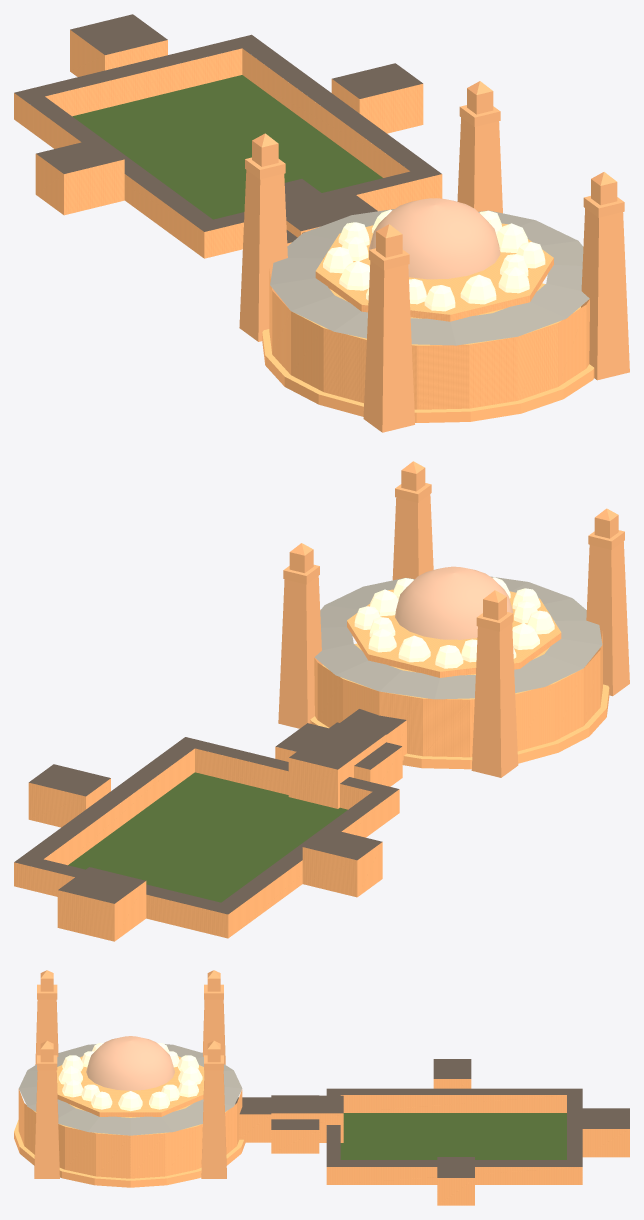
Rendered from grand_jamia_mosque_bahria_far.glb.
The picture shows the model from 3 angles, top to bottom: view 1: azimuth 30°, elevation 25°; view 2: azimuth 150°, elevation 25°; view 3: azimuth 270°, elevation 25°; orthographic projection. The views are drawn at different scales.
Visible parts, largest first — view 1: m_brick, m_minaret_plain, m_grass, m_wing_roof, m_roof_ring, m_dome_main, m_dome_small, m_brick_plain; view 2: m_brick, m_minaret_plain, m_grass, m_wing_roof, m_roof_ring, m_dome_main, m_dome_small, m_brick_plain; view 3: m_brick, m_grass, m_wing_roof, m_minaret_plain, m_roof_ring, m_dome_main, m_dome_small, m_brick_plain.
Part boxes in pixels (x1,y1,x2,y2): m_brick: [14, 30, 589, 409]; m_minaret_plain: [239, 81, 629, 432]; m_grass: [72, 75, 382, 219]; m_wing_roof: [14, 14, 441, 243]; m_roof_ring: [270, 209, 589, 345]; m_dome_main: [369, 198, 500, 279]; m_dome_small: [323, 209, 545, 311]; m_brick_plain: [262, 283, 594, 422]; m_brick: [14, 589, 602, 941]; m_minaret_plain: [278, 461, 629, 777]; m_grass: [68, 772, 347, 902]; m_wing_roof: [14, 709, 406, 914]; m_roof_ring: [314, 576, 602, 699]; m_dome_main: [395, 566, 513, 639]; m_dome_small: [354, 577, 554, 668]; m_brick_plain: [310, 643, 609, 769]; m_brick: [18, 1056, 629, 1205]; m_grass: [340, 1113, 566, 1159]; m_wing_roof: [235, 1059, 629, 1177]; m_minaret_plain: [34, 970, 226, 1178]; m_roof_ring: [19, 1044, 242, 1135]; m_dome_main: [86, 1036, 174, 1090]; m_dome_small: [58, 1043, 202, 1111]; m_brick_plain: [14, 1104, 245, 1187].
Bounding box in the file's own units: 101 × 51.79 × 218.
Materials: 8 (1 with a texture image).
